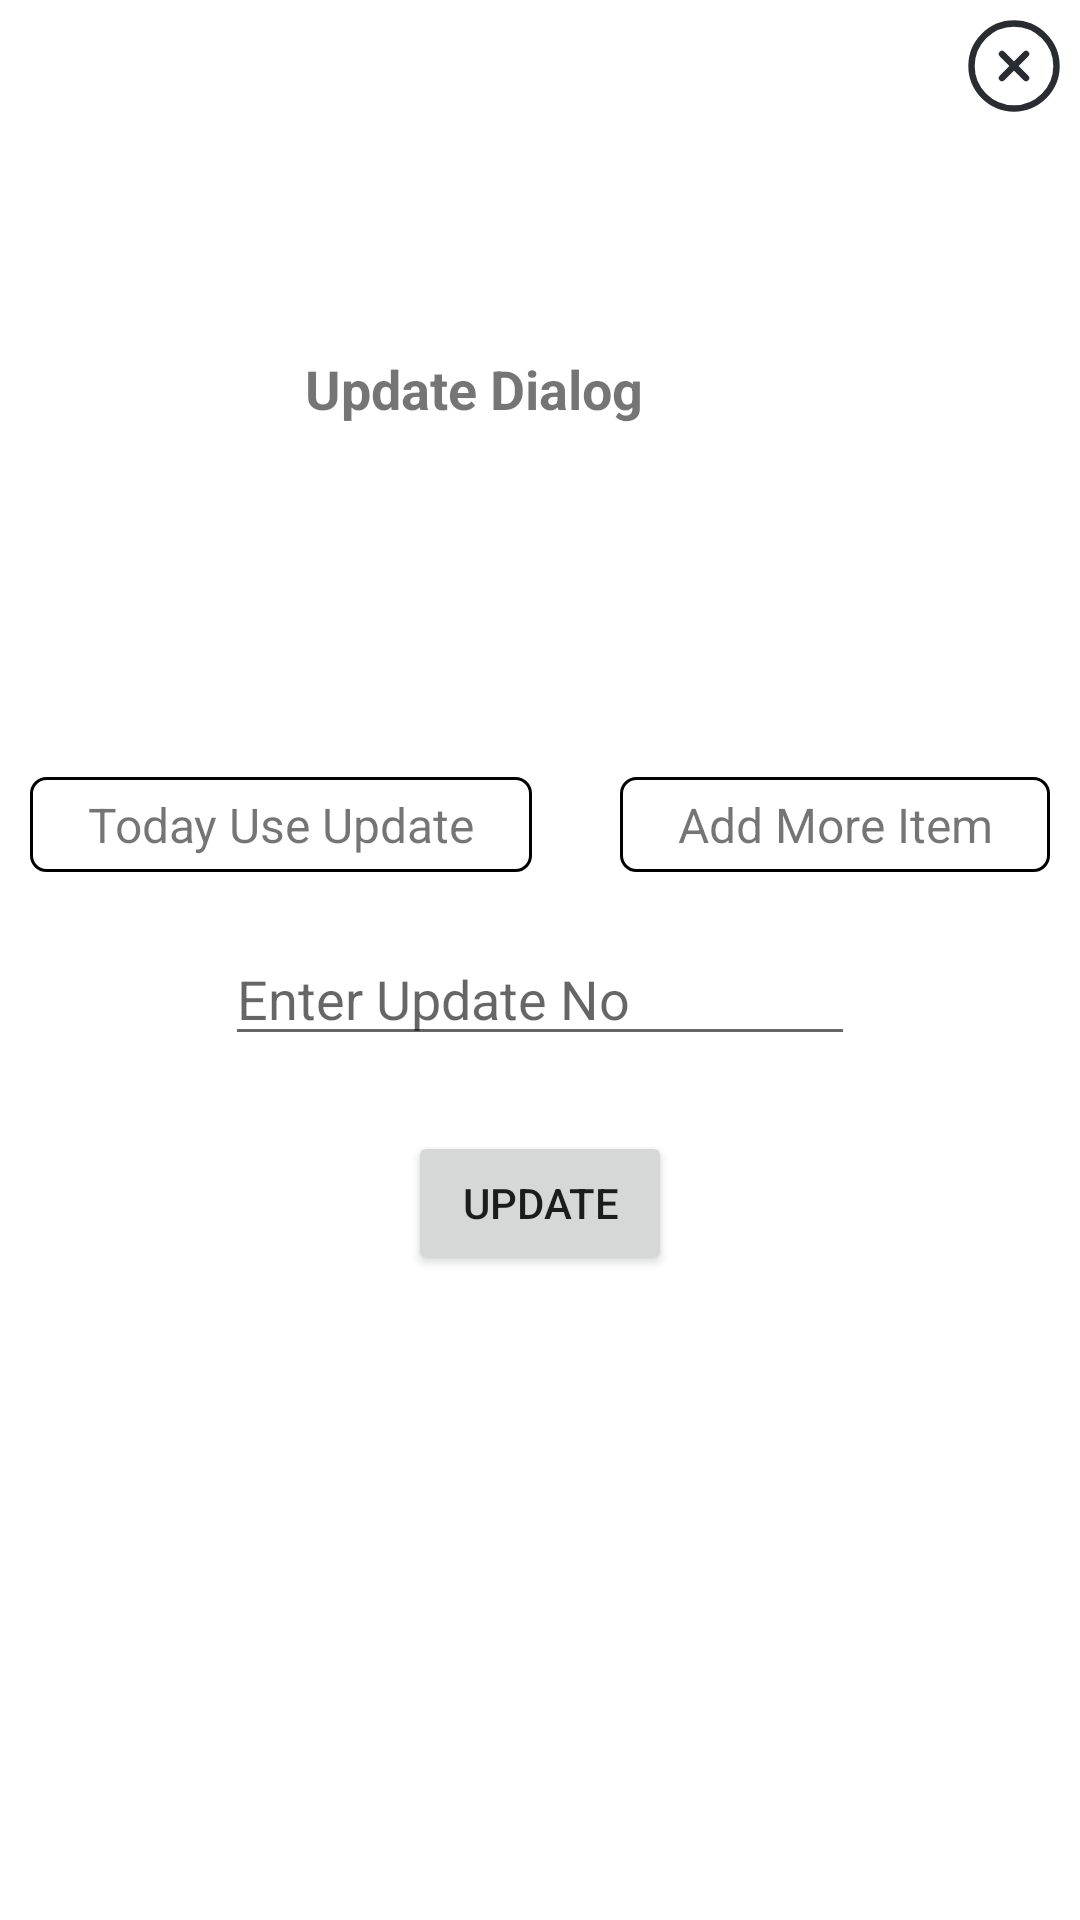

Screen size 1080*1920. Icon name, then its box in pixels as Rect(x1, y1, x2, y2):
use for close dialoge: Rect(968, 20, 1060, 112)
